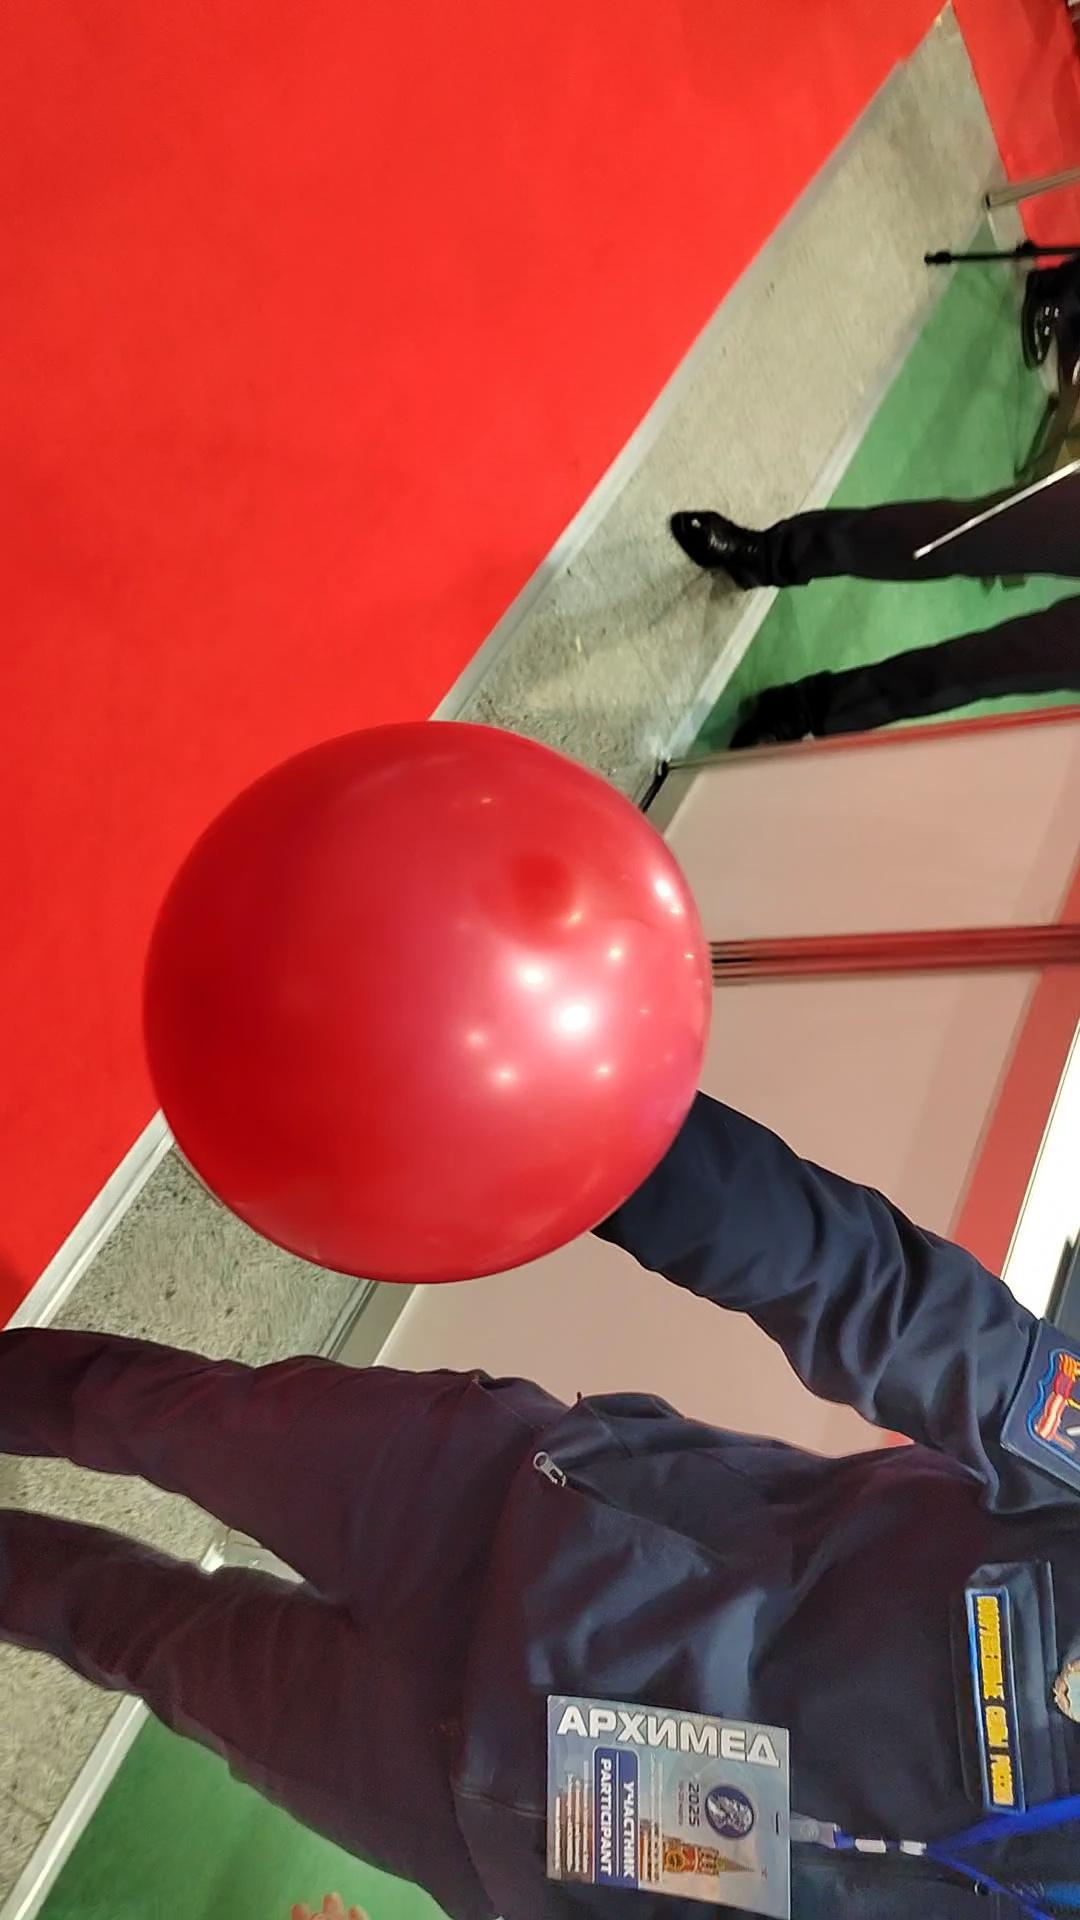red: (133, 702, 732, 1298)
